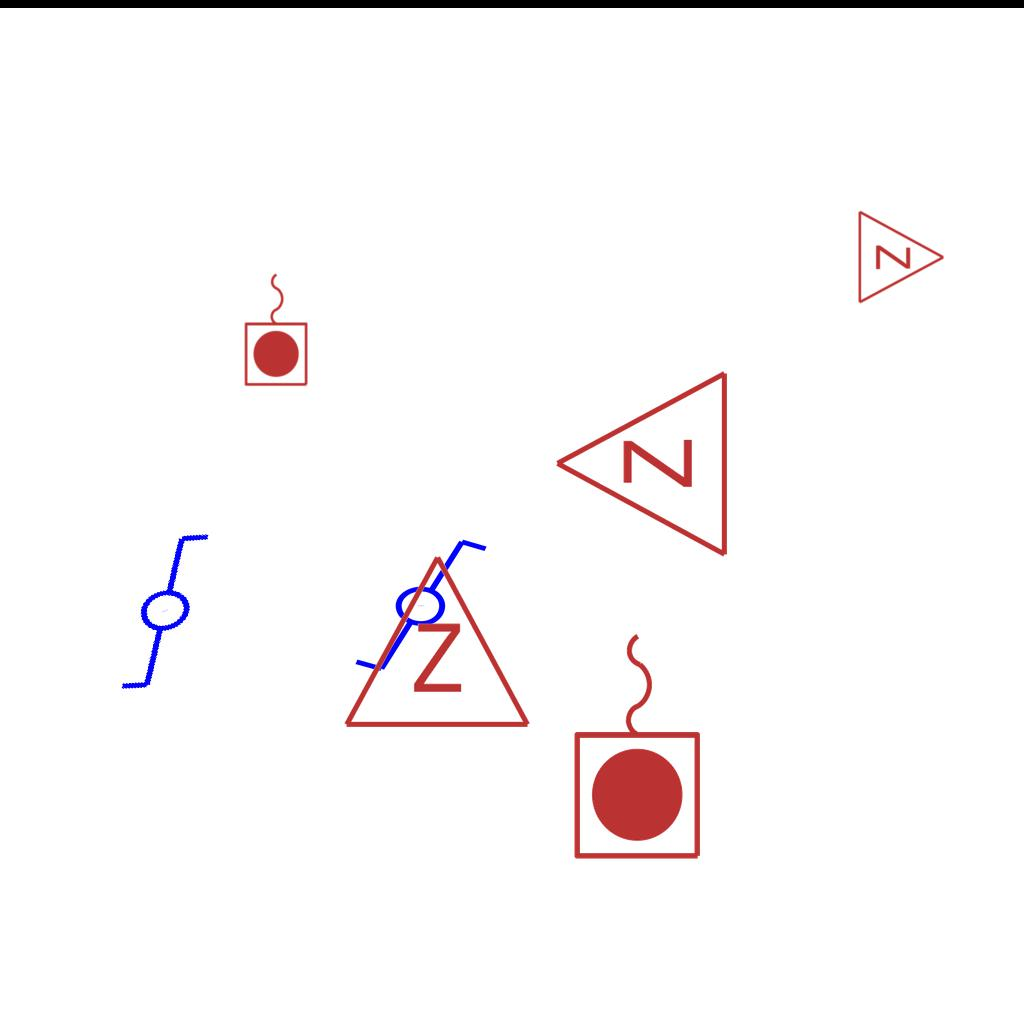Wechselschalter: (75, 516, 272, 704), (334, 532, 491, 676)
Zimmersignalleuchte: (542, 368, 742, 564), (337, 542, 533, 742), (851, 207, 951, 305)
Zugtaster: (567, 623, 711, 867), (241, 268, 313, 390)
